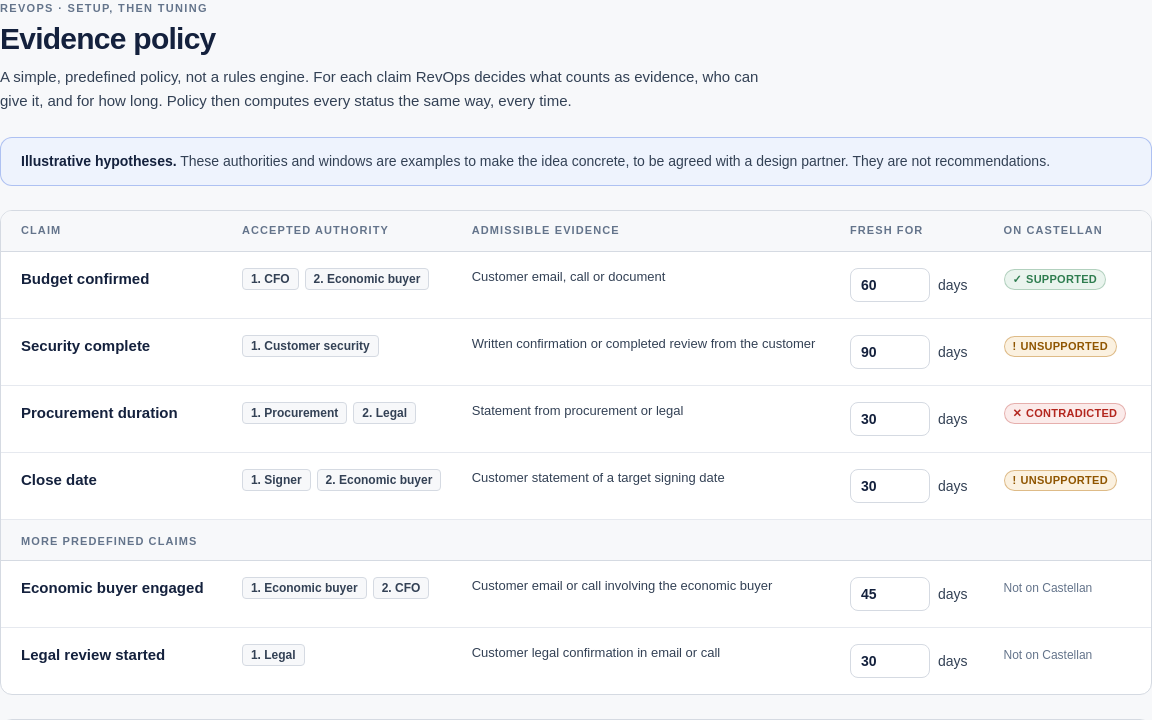
Screen 6: RevOps policy › changing a freshness window recomputes the status shown for Castellan
Replace the text in the number field named "Freshness window for Budget confirmed, in days" with "10" at (890, 285), box [850,268,930,302]
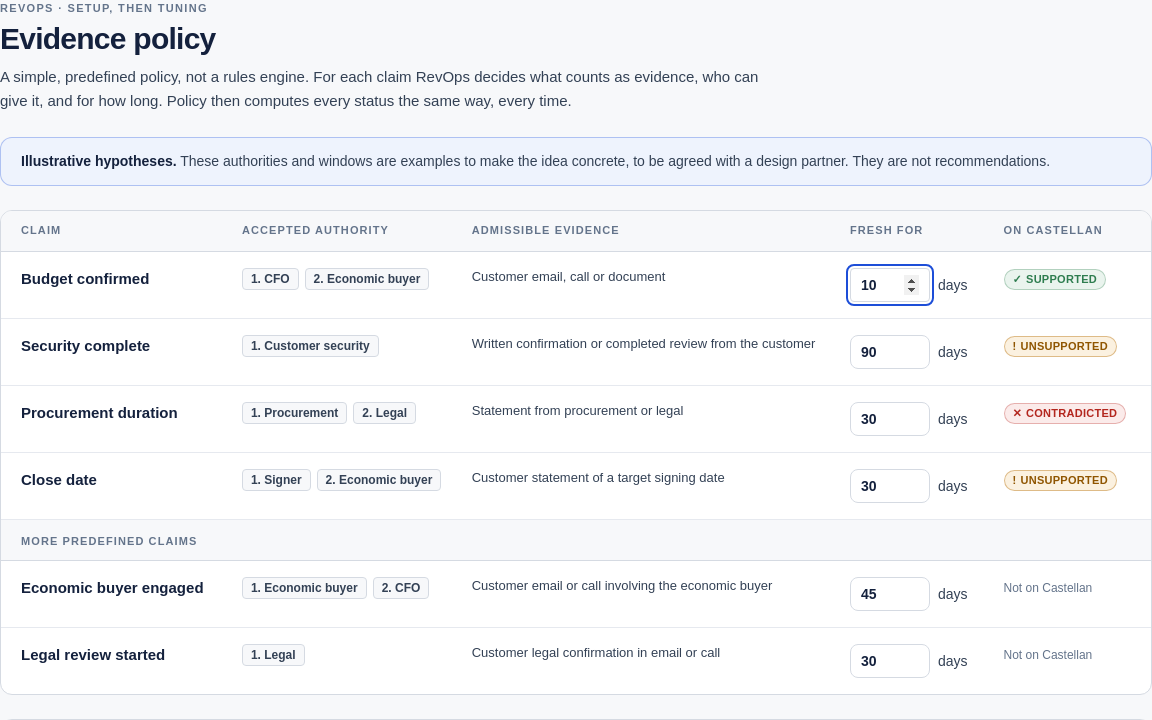
Press Tab
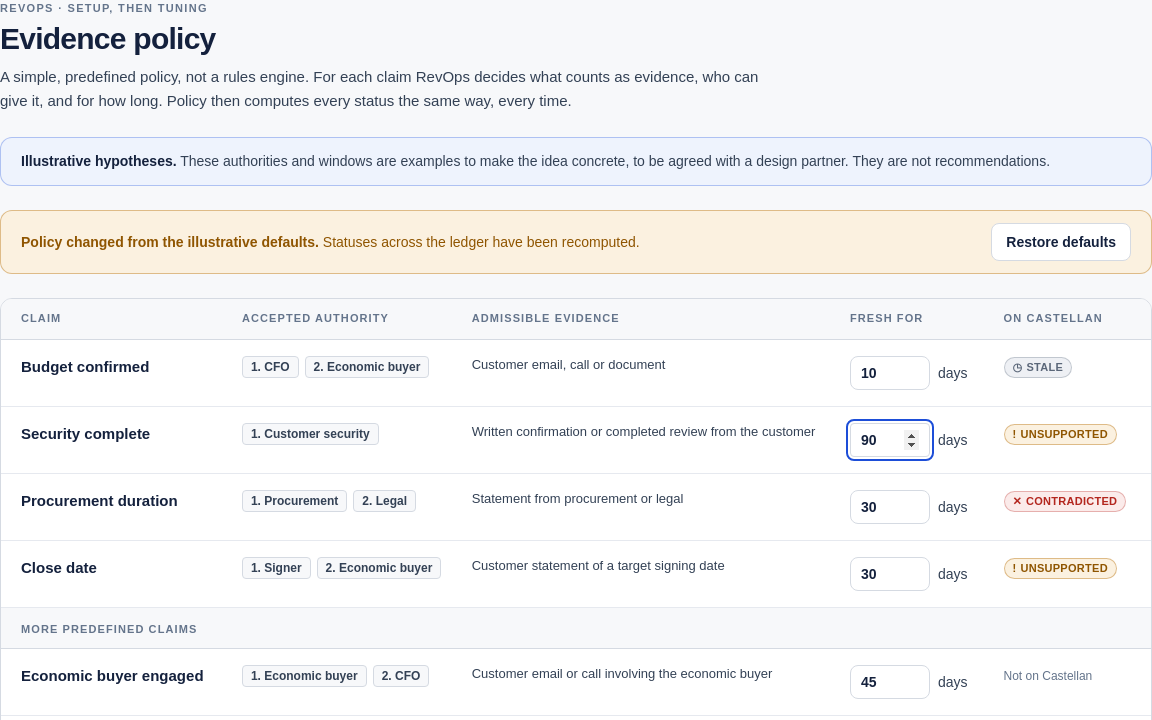
Result: the text "Policy changed from the illustrative defaults." is shown at [21,234,319,250]
Result: the text "Stale" is shown at [1026,361,1063,373]
